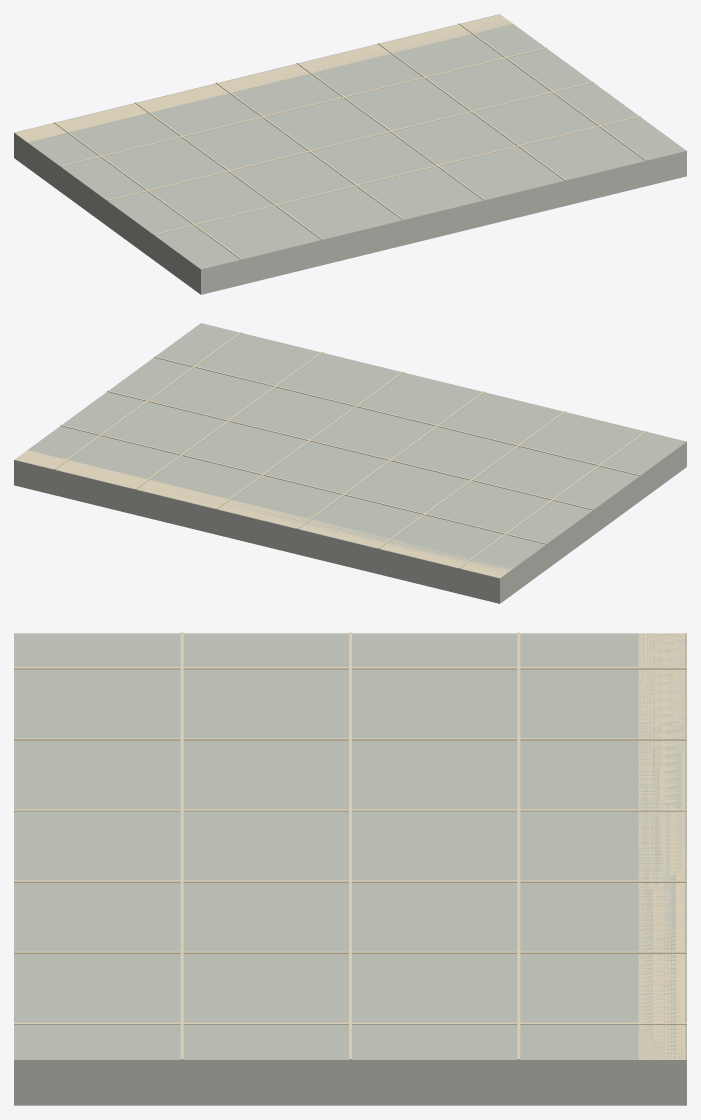
File: promenade-open.glb
3 views of the same model, one above another, from view 1: azimuth 30°, elevation 25°; view 2: azimuth 150°, elevation 25°; view 3: azimuth 270°, elevation 25° (orthographic). The views are drawn at different scales.
Parts seen in each view (by area): view 1: promenade-open; view 2: promenade-open; view 3: promenade-open.
Boxes of the visible parts, x1=… form: promenade-open: x1=14, y1=14, x2=686, y2=294; promenade-open: x1=14, y1=323, x2=686, y2=603; promenade-open: x1=14, y1=632, x2=686, y2=1105.
Size of the model in its own units: 12 by 0.616 by 8.
